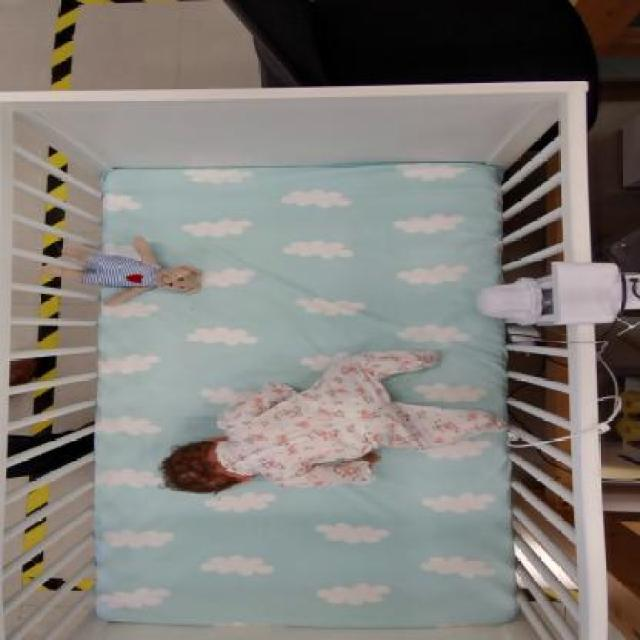baby: (160, 348, 510, 498)
